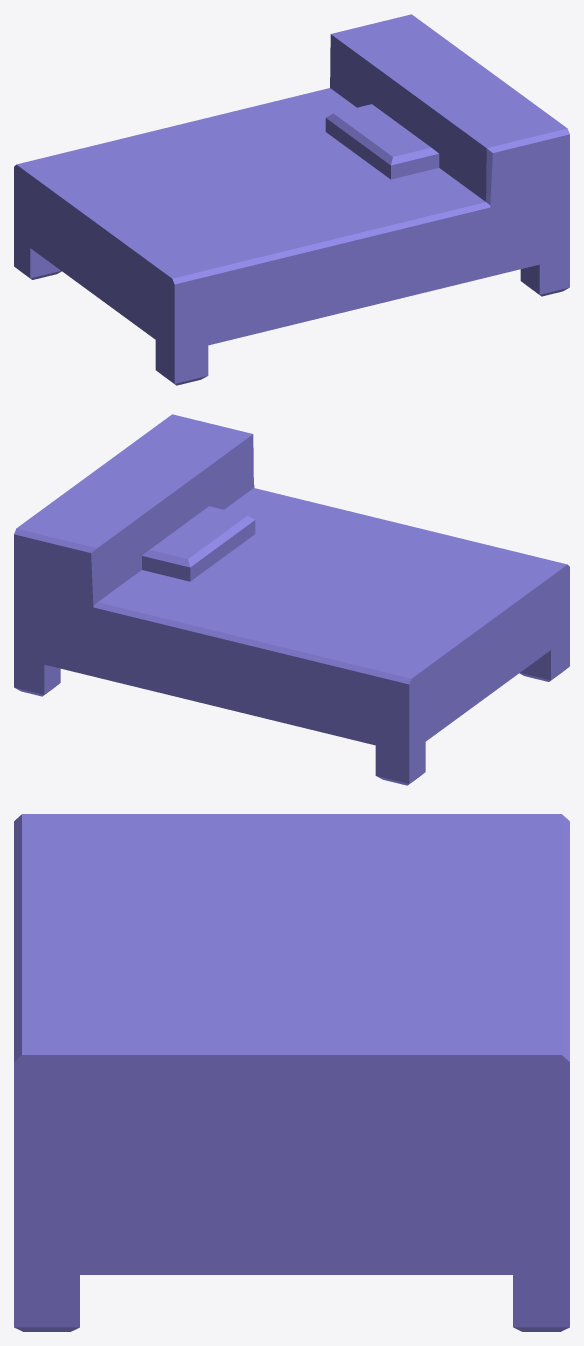
The model's file is bed.glb.
3 views of the same model, one above another, from view 1: azimuth 30°, elevation 25°; view 2: azimuth 150°, elevation 25°; view 3: azimuth 270°, elevation 25° (orthographic). The views are drawn at different scales.
Visible parts, largest first — view 1: Bed; view 2: Bed; view 3: Bed.
Part boxes in pixels (left/top/right/bottom): Bed: left=14, top=14, right=569, bottom=385; Bed: left=14, top=414, right=569, bottom=785; Bed: left=14, top=814, right=569, bottom=1331.
Bounding box in the file's own units: 6.51 × 2.55 × 4.58.
